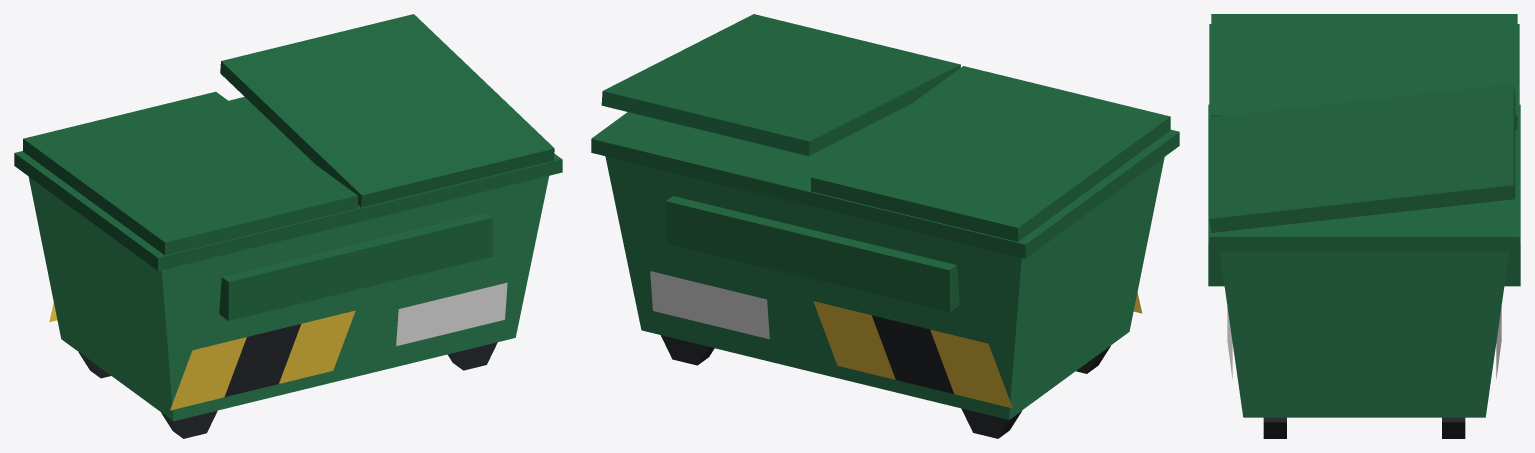
The model's file is dumpster.glb.
The picture shows the model from 3 angles, left to right: view 1: azimuth 30°, elevation 25°; view 2: azimuth 150°, elevation 25°; view 3: azimuth 270°, elevation 25°; orthographic projection. The views are drawn at different scales.
Visible parts, largest first — view 1: dumpster; view 2: dumpster; view 3: dumpster.
Boxes of the visible parts, x1,y1,x2,y2 form: dumpster: (14,14,562,438); dumpster: (591,14,1179,438); dumpster: (1208,14,1520,438).
Size of the model in its own units: 0.26 by 0.1572 by 0.161.
